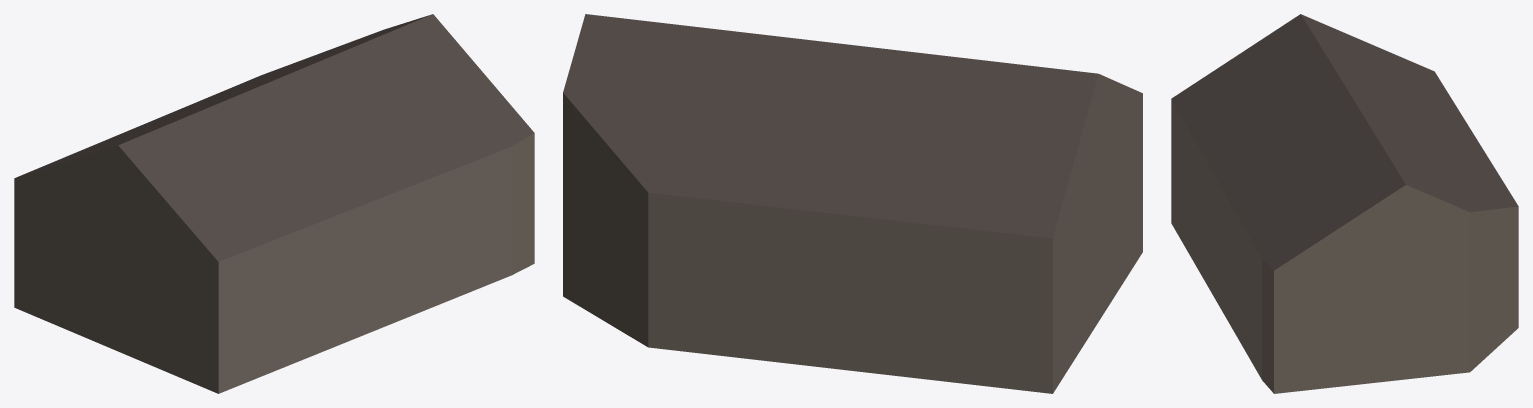
3 views of the same model, side by side, from view 1: azimuth 30°, elevation 25°; view 2: azimuth 150°, elevation 25°; view 3: azimuth 270°, elevation 25° (orthographic). The views are drawn at different scales.
Parts seen in each view (by area): view 1: HP-w1138074124; view 2: HP-w1138074124; view 3: HP-w1138074124.
Part boxes in pixels (x1,y1,x2,y2): HP-w1138074124: (14,14,534,393); HP-w1138074124: (563,14,1142,393); HP-w1138074124: (1171,14,1518,393).
Size of the model in its own units: 21.23 by 9.61 by 15.54.
